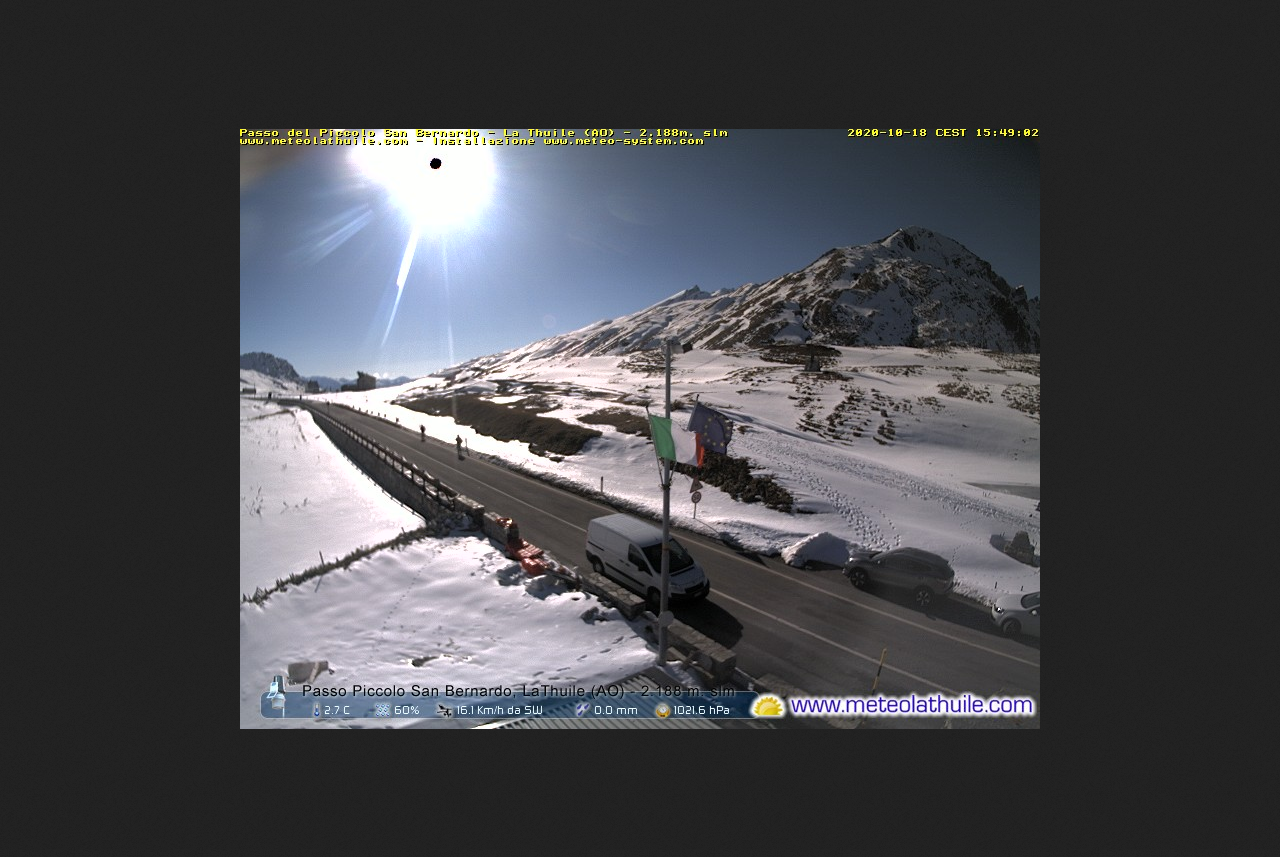yes: (648, 417, 703, 470), (689, 399, 735, 456)
